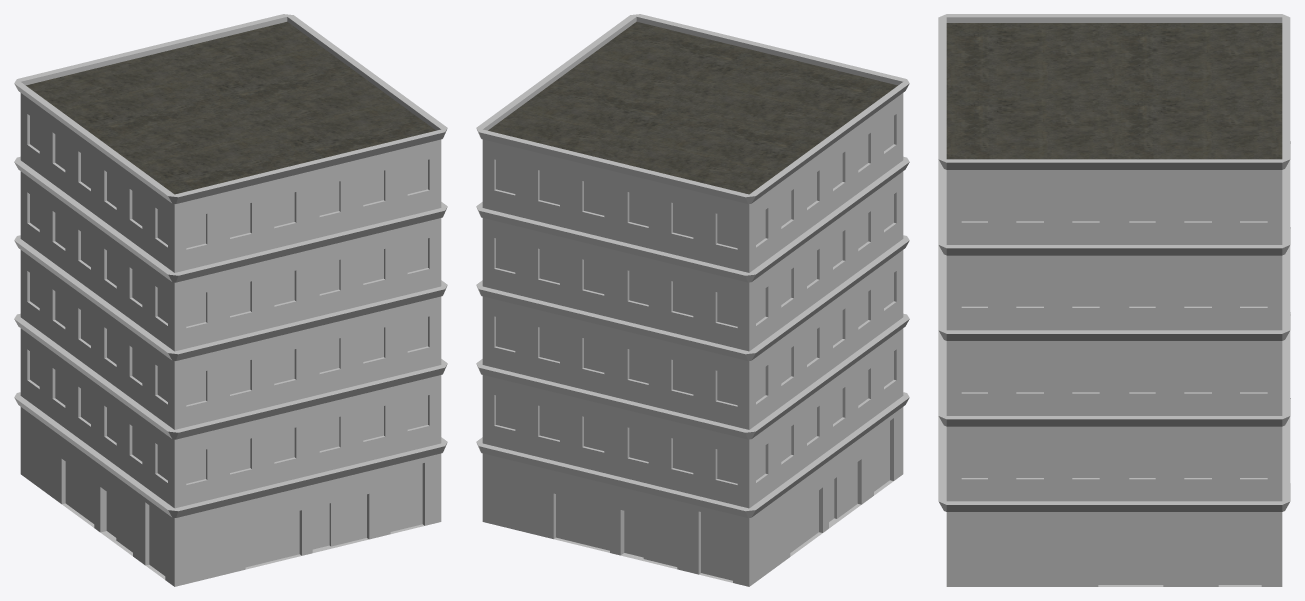
File: DT_Building_Type_04_04.fbx
3 renders of one model, left to right at view 1: azimuth 30°, elevation 25°; view 2: azimuth 150°, elevation 25°; view 3: azimuth 270°, elevation 25°, orthographic. The views are drawn at different scales.
Parts seen in each view (by area): view 1: DT_Building_Type_04_04; view 2: DT_Building_Type_04_04; view 3: DT_Building_Type_04_04.
Boxes of the visible parts, x1,y1,x2,y2 form: DT_Building_Type_04_04: (14, 14, 447, 586); DT_Building_Type_04_04: (476, 14, 909, 586); DT_Building_Type_04_04: (938, 14, 1290, 586).
Size of the model in its own units: 1074 by 1440 by 1074.
